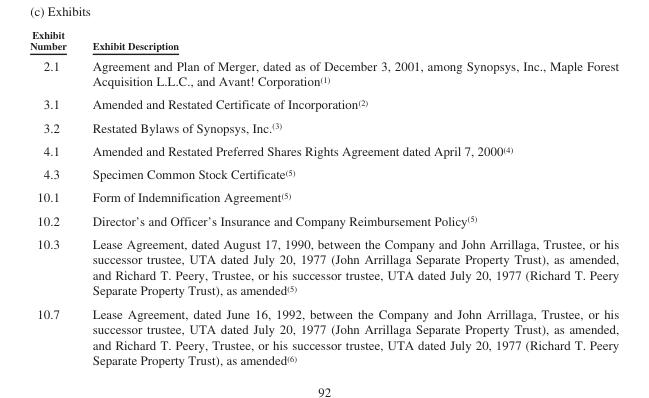table: (29, 28, 618, 366)
table column: (78, 28, 618, 366), (29, 28, 78, 366)
table column header: (29, 28, 618, 54)
table row: (29, 231, 618, 301), (29, 301, 618, 366), (29, 54, 618, 92), (29, 28, 618, 54), (29, 138, 618, 162), (29, 92, 618, 115), (29, 115, 618, 138), (29, 162, 618, 185), (29, 185, 618, 208), (29, 208, 618, 231)
